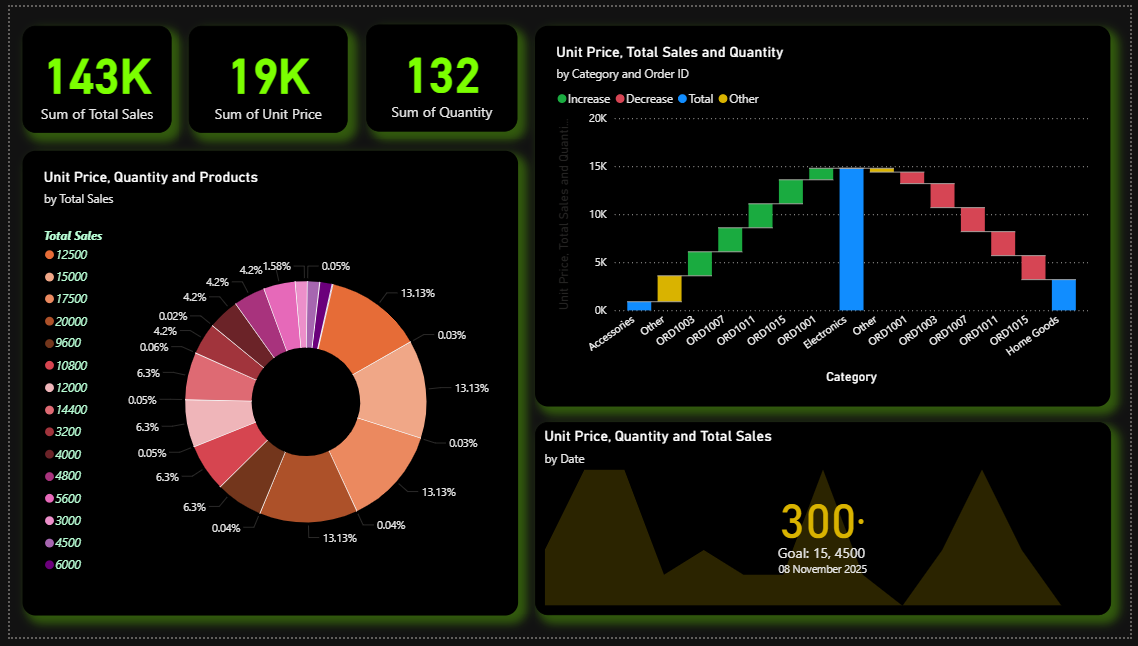

The page's visual inventory and layout, read from the dashboard file:
{"tool":"powerbi","page":{"name":"Page 1","canvas":[1280,720],"ordinal":0},"visuals":[{"type":"card","fields":{"Values":["Sum(Sheet1.Total Sales)"]},"box":[13.8,21.2,170,122.5],"z":0},{"type":"donutChart","fields":{"Category":["Sheet1.Total Sales"],"Y":["Sum(Sheet1.Unit Price)","Sum(Sheet1.Quantity)","CountNonNull(Sheet1.Product)"]},"box":[13.8,163.8,566.2,531.2],"z":1000},{"type":"card","fields":{"Values":["Sum(Sheet1.Unit Price)"]},"box":[203.8,21.2,181.2,122.5],"z":2000},{"type":"card","fields":{"Values":["Sum(Sheet1.Quantity)"]},"box":[407.5,20,172.5,122.5],"z":3000},{"type":"waterfallChart","fields":{"Category":["Sheet1.Category","Sheet1.Date.Variation.Date Hierarchy.Year","Sheet1.Date.Variation.Date Hierarchy.Quarter","Sheet1.Date.Variation.Date Hierarchy.Month","Sheet1.Date.Variation.Date Hierarchy.Day","Sheet1.Product","Sheet1.Region"],"Breakdown":["Sheet1.Order ID"],"Y":["Sum(Total sales.Unit Price)"]},"box":[600,21.2,657.5,435],"z":4000},{"type":"kpi","fields":{"Indicator":["Sum(Total sales.Unit Price)"],"Goal":["Sum(Total sales.Quantity)","Sum(Total sales.Total Sales)"],"TrendLine":["Total sales.Date"]},"box":[600,474,658,221],"z":4001}]}

Visuals, with their boxes in screenshot pixels (x1, y1, x2, y2), scaled from the page's 1280x720 canvas onto the 1138x646 screenshot:
card - Sum(Sheet1.Total Sales): (12, 19, 163, 129)
donutChart - Sheet1.Total Sales x Sum(Sheet1.Unit Price): (12, 147, 516, 624)
card - Sum(Sheet1.Unit Price): (181, 19, 342, 129)
card - Sum(Sheet1.Quantity): (362, 18, 516, 128)
waterfallChart - Sheet1.Category x Sheet1.Date.Variation.Date Hierarchy.Year: (533, 19, 1118, 409)
kpi - Sum(Total sales.Unit Price) x Sum(Total sales.Quantity): (533, 425, 1118, 624)
